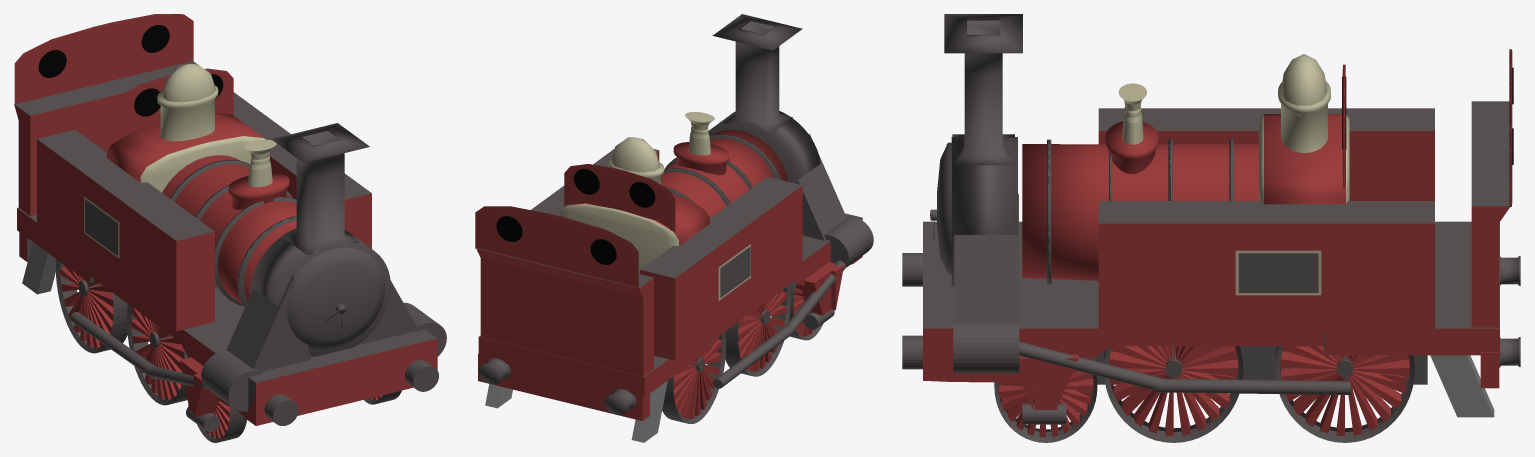
The model's file is lnwr-side-tank.dae.
3 renders of one model, left to right at view 1: azimuth 30°, elevation 25°; view 2: azimuth 150°, elevation 25°; view 3: azimuth 270°, elevation 25°, orthographic. The views are drawn at different scales.
Parts seen in each view (by area): view 1: Cube_014, Cube_003, Cube_012, Cylinder_010, Cylinder_008, Cube_011, Cube_001, Cube, Cube_007, Cylinder_013, Cylinder_003, Cube_006 (+21 smaller); view 2: Cube_014, Cube_011, Cube_012, Cube_003, Cube_001, Cylinder_008, Cube, Cube_013, Cylinder_003, Cube_015, Cylinder_001, Cylinder_013 (+23 smaller); view 3: Cube_006, Cube_003, Cylinder_008, Cube_014, Cylinder_003, Cylinder_001, Cube_001, Cube_011, Cube, Cube_002, Cylinder_013, Cylinder_007 (+20 smaller).
Part boxes in pixels (left/top/right/bottom): Cube_014: left=37, top=129, right=214, bottom=331; Cube_003: left=17, top=207, right=438, bottom=425; Cube_012: left=14, top=14, right=193, bottom=103; Cylinder_010: left=287, top=247, right=385, bottom=349; Cylinder_008: left=162, top=155, right=296, bottom=303; Cube_011: left=14, top=61, right=196, bottom=216; Cube_001: left=271, top=123, right=369, bottom=255; Cube: left=106, top=112, right=265, bottom=192; Cube_007: left=226, top=275, right=310, bottom=371; Cylinder_013: left=250, top=228, right=390, bottom=356; Cylinder_003: left=55, top=259, right=127, bottom=353; Cube_006: left=233, top=92, right=371, bottom=248; Cube_014: left=640, top=176, right=802, bottom=360; Cube_011: left=476, top=248, right=653, bottom=376; Cube_012: left=475, top=206, right=638, bottom=288; Cube_003: left=478, top=213, right=862, bottom=397; Cube_001: left=712, top=14, right=802, bottom=134; Cylinder_008: left=661, top=130, right=787, bottom=218; Cube: left=560, top=194, right=709, bottom=273; Cube_013: left=564, top=164, right=675, bottom=232; Cylinder_003: left=662, top=332, right=726, bottom=423; Cube_015: left=478, top=354, right=649, bottom=420; Cylinder_001: left=725, top=284, right=790, bottom=376; Cylinder_013: left=708, top=111, right=820, bottom=183; Cube_006: left=1098, top=201, right=1434, bottom=332; Cube_003: left=902, top=221, right=1499, bottom=382; Cylinder_008: left=1022, top=144, right=1258, bottom=280; Cube_014: left=1098, top=108, right=1434, bottom=200; Cylinder_003: left=1275, top=346, right=1414, bottom=442; Cylinder_001: left=1103, top=346, right=1243, bottom=442; Cube_001: left=944, top=14, right=1022, bottom=165; Cube_011: left=1471, top=101, right=1509, bottom=327; Cube: left=1259, top=114, right=1349, bottom=204; Cube_002: left=954, top=194, right=1018, bottom=319; Cylinder_013: left=951, top=137, right=1017, bottom=286; Cylinder_007: left=953, top=319, right=1019, bottom=373.
Bounding box in the file's own units: 2.38 × 4.72 × 3.06.
